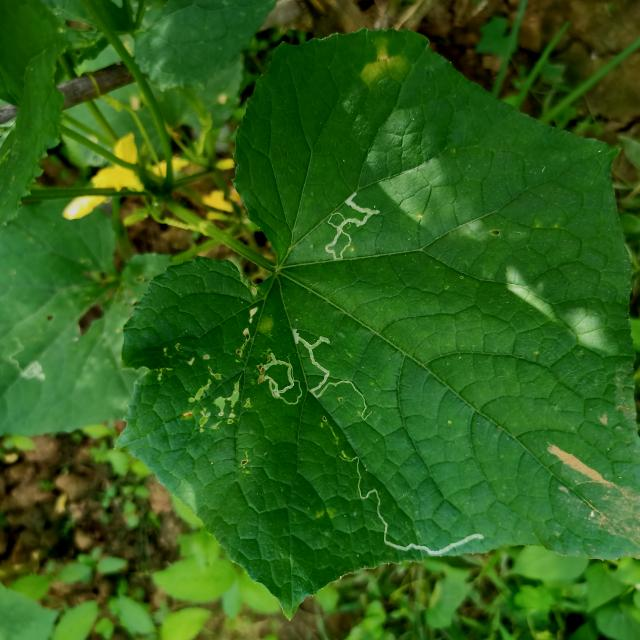disease_cucumber: (360, 32, 408, 82)
